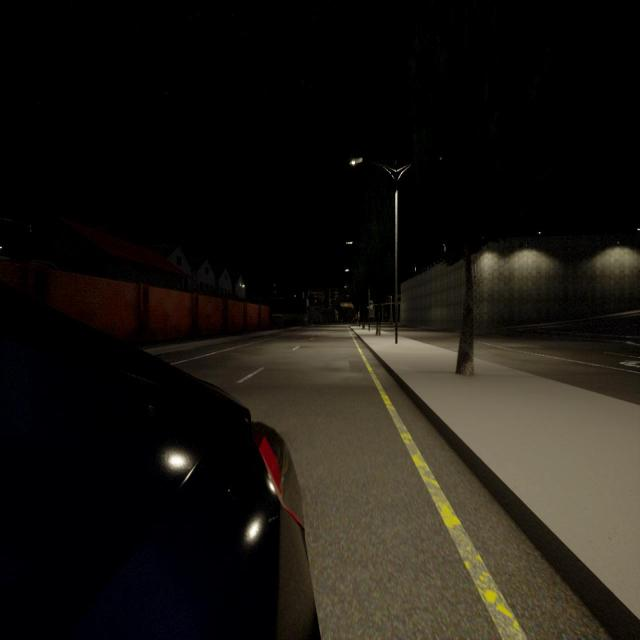Vehicle: (0, 292, 314, 638)
